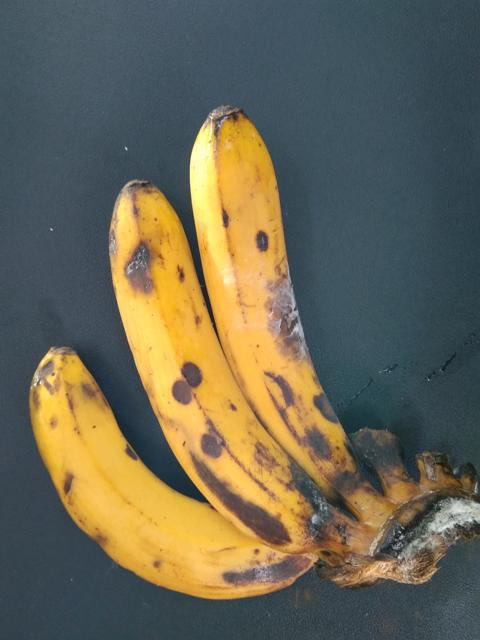overripe: (100, 184, 361, 544), (182, 96, 387, 529), (16, 340, 271, 615)
rotten: (230, 229, 336, 402)
